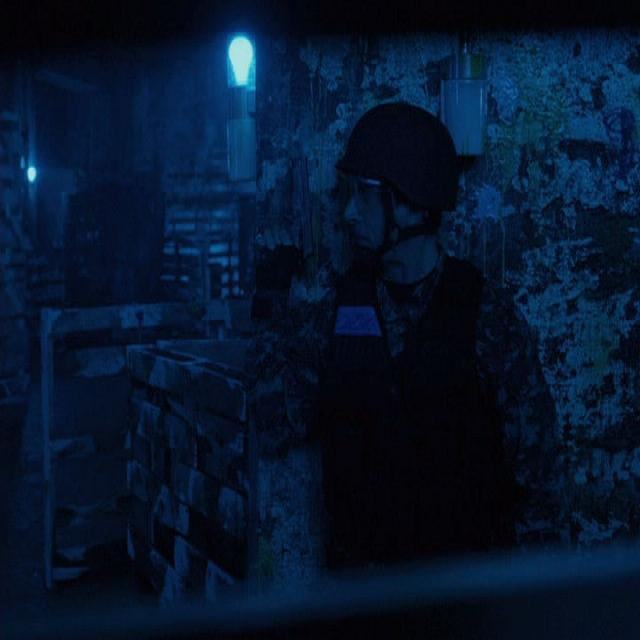gun-knife-thesis - v11 Yolov5 augmented: (250, 146, 317, 278)
